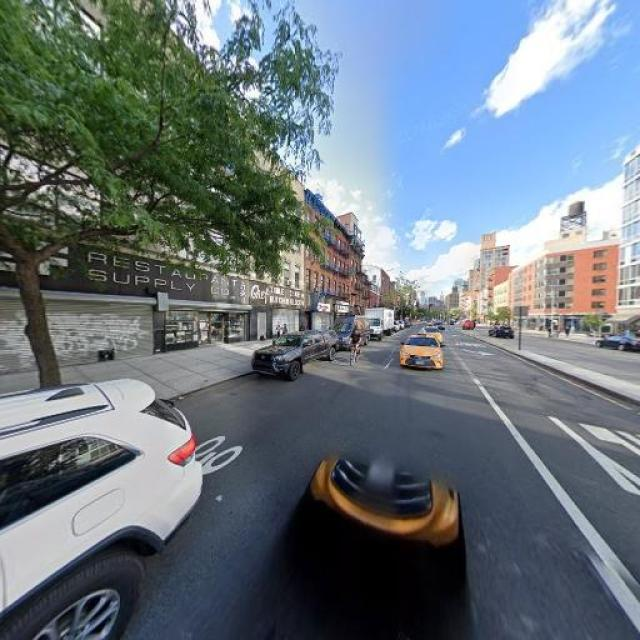Building: (1, 1, 248, 367), (250, 134, 303, 339), (305, 188, 333, 333), (628, 155, 640, 342), (335, 220, 349, 329)
